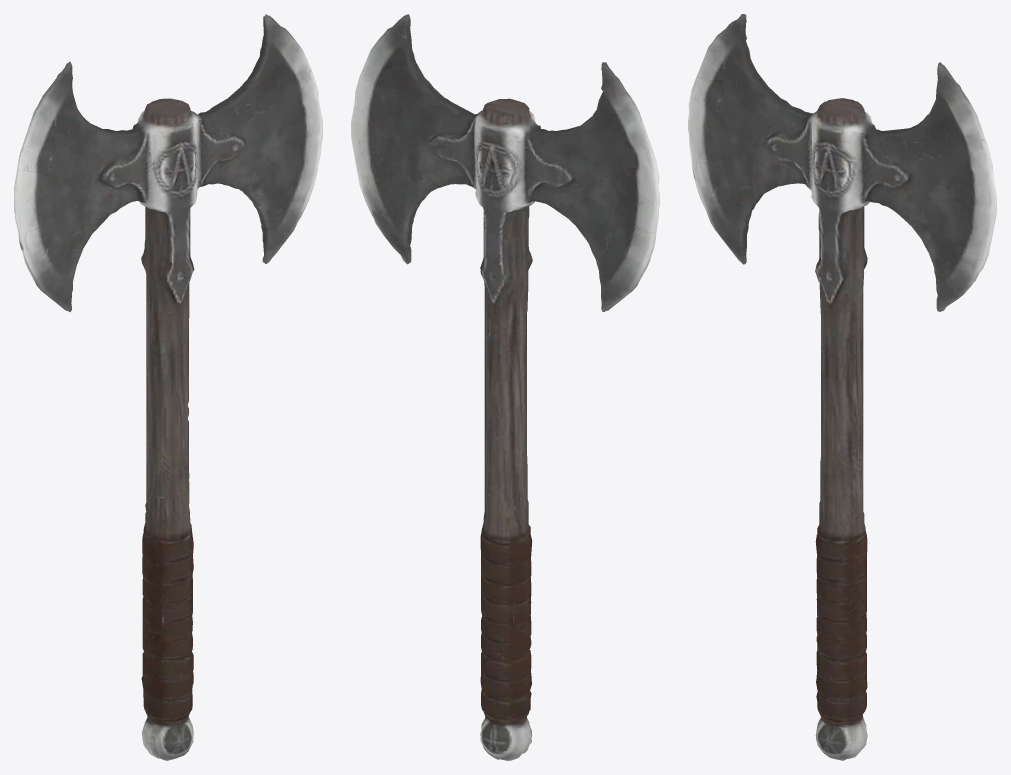
The model's file is Double_Axe.glb.
The picture shows the model from 3 angles, left to right: view 1: azimuth 30°, elevation 25°; view 2: azimuth 150°, elevation 25°; view 3: azimuth 330°, elevation 25°; orthographic projection.
Size of the model in its own units: 0.8533 by 1.91 by 0.1331.
1 material, 1 textured.
